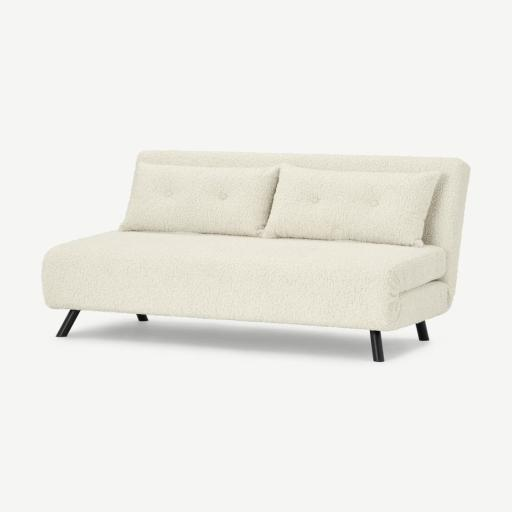back_cushion: (121, 164, 440, 247)
legs: (57, 310, 79, 337), (369, 331, 384, 362), (416, 322, 428, 340), (262, 335, 275, 346), (137, 315, 147, 321)
seat_cushion: (42, 231, 447, 331)
two-seater: (0, 0, 511, 512)
